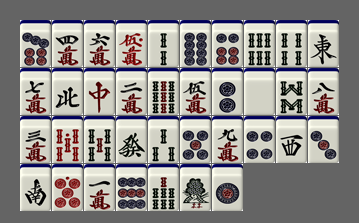0m: (116, 20, 147, 67)
0p: (52, 164, 83, 211)
0s: (52, 116, 83, 163)
1m: (84, 164, 115, 211)
1p: (212, 164, 243, 211)
1s: (180, 164, 211, 211)
1z: (308, 20, 339, 67)
2m: (116, 68, 147, 115)
2p: (212, 68, 243, 115)
2s: (148, 20, 179, 67)
2z: (20, 164, 51, 211)
3m: (20, 116, 51, 163)
3p: (308, 116, 339, 163)
3s: (148, 116, 179, 163)
3z: (276, 116, 307, 163)
4m: (52, 20, 83, 67)
4p: (244, 116, 275, 163)
4s: (276, 20, 307, 67)
4z: (52, 68, 83, 115)
5m: (180, 68, 211, 115)
5p: (180, 116, 211, 163)
5s: (84, 116, 115, 163)
5z: (244, 68, 275, 115)
6m: (84, 20, 115, 67)
6p: (212, 20, 243, 67)
6s: (244, 20, 275, 67)
6z: (116, 116, 147, 163)
7m: (20, 68, 51, 115)
7p: (20, 20, 51, 67)
7s: (148, 164, 179, 211)
7z: (84, 68, 115, 115)
8m: (308, 68, 339, 115)
8p: (180, 20, 211, 67)
8s: (276, 68, 307, 115)
9m: (212, 116, 243, 163)
9p: (116, 164, 147, 211)
9s: (148, 68, 179, 115)
